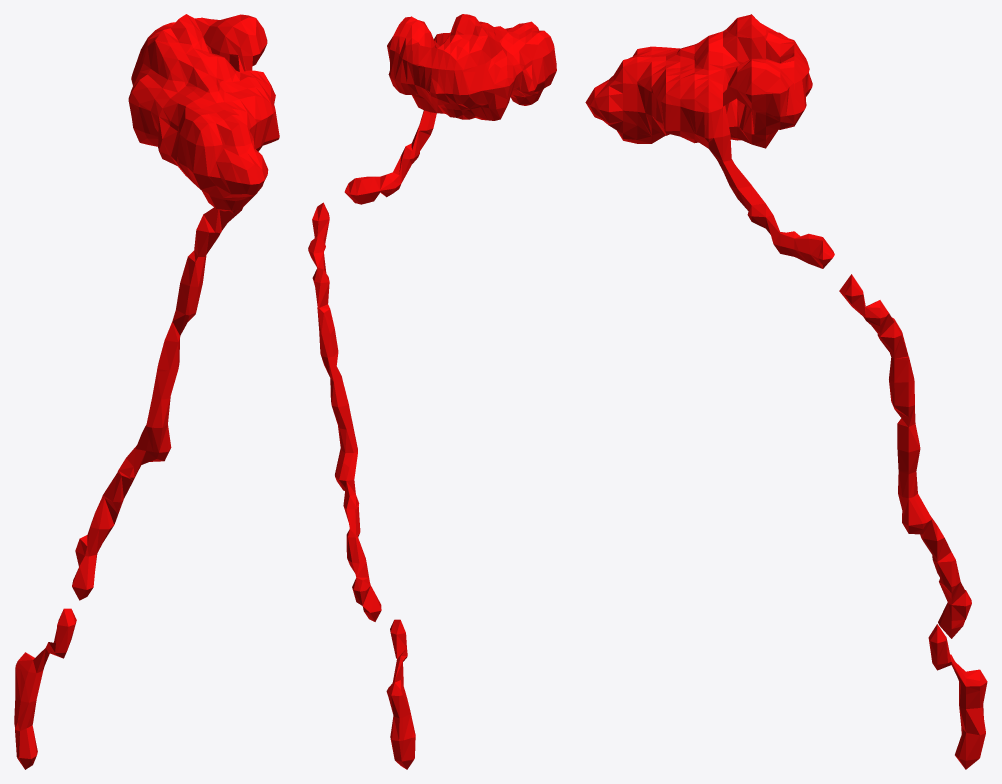
The model's file is metG_coarse.dae.
3 views of the same model, side by side, from view 1: azimuth 30°, elevation 25°; view 2: azimuth 150°, elevation 25°; view 3: azimuth 270°, elevation 25° (orthographic). The views are drawn at different scales.
Visible parts, largest first — view 1: metG; view 2: metG; view 3: metG.
Part boxes in pixels (bbox=[...]): metG: bbox=[14, 14, 279, 769]; metG: bbox=[308, 14, 556, 769]; metG: bbox=[585, 14, 987, 769].
Bounding box in the file's own units: 85.6 × 364 × 171.
